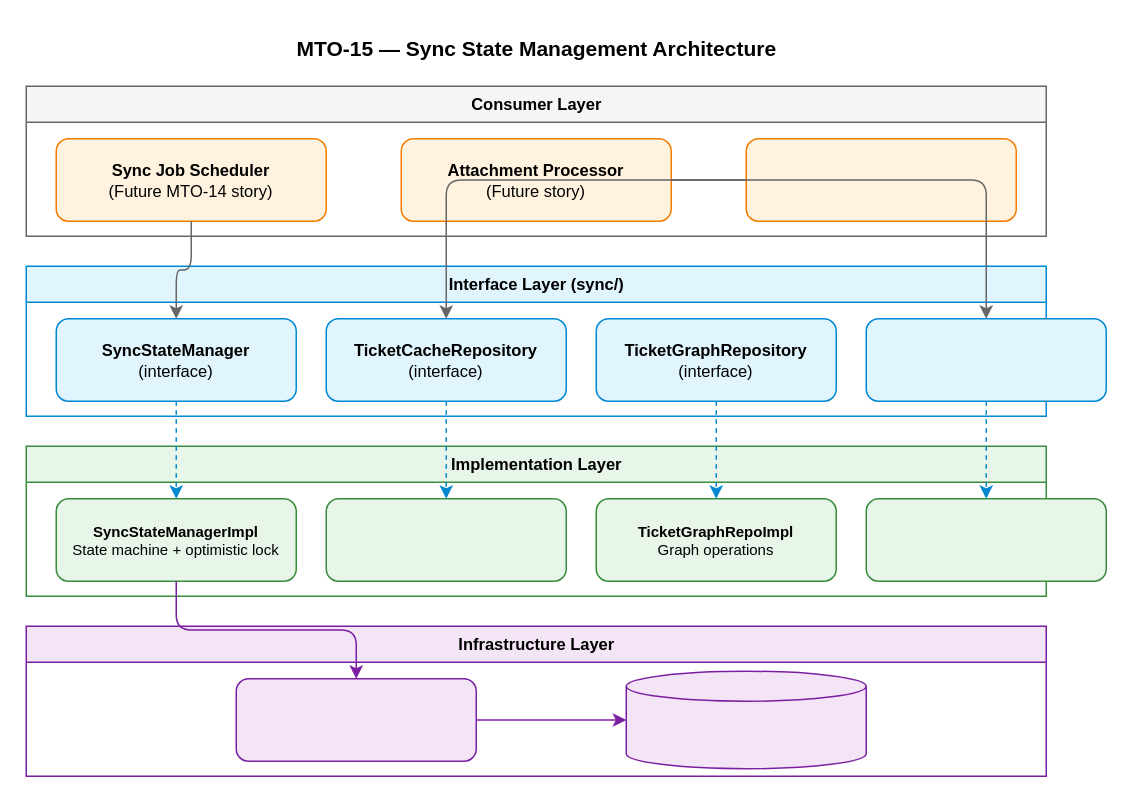
Some shapes in this 1133 by 803 pixel diagram are drawn without their labels. Here are the shapes that lost their labels. From the top down, the centre of each, then its label:
At (880,179): "KB Ingestion Service (Future story)".
At (985,359): "AttachmentQueueRepo (interface)".
At (445,539): "TicketCacheRepoImpl UPSERT + batch".
At (985,539): "AttachmentQueueRepoImpl Queue operations".
At (355,719): "HikariCP Connection Pool".
At (745,719): "PostgreSQL 16 4 tables + 8 indexes".
